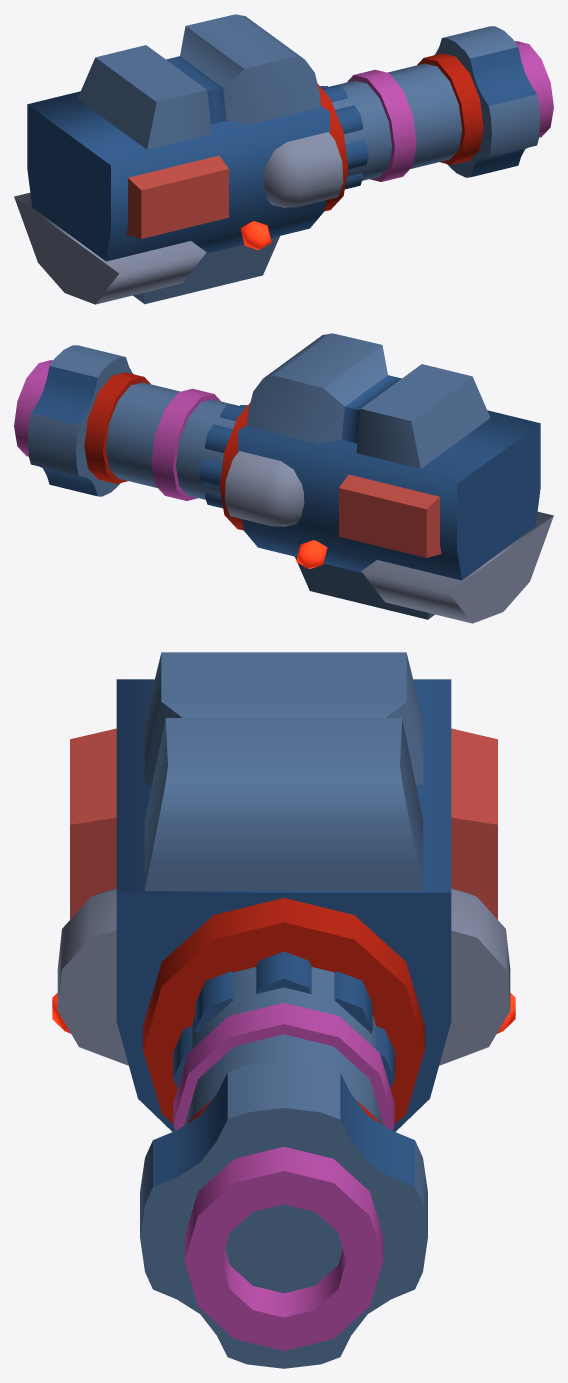
File: pulemet_Lv2.fbx
3 views of the same model, one above another, from view 1: azimuth 30°, elevation 25°; view 2: azimuth 150°, elevation 25°; view 3: azimuth 270°, elevation 25° (orthographic). The views are drawn at different scales.
Parts seen in each view (by area): view 1: Cube.008, Cube.012, wTube.013, Cube.009, wTube.019, Cube.011, Sphere.001, Cube.010, wTube.016, wTube.020, wTube.014, wTube.015 (+3 smaller); view 2: Cube.008, Cube.012, wTube.013, Cube.009, wTube.019, Cube.011, Sphere.001, wTube.016, wTube.020, Cube.010, wTube.014, wTube.015 (+3 smaller); view 3: Cube.012, wTube.013, Cube.008, wTube.014, wTube.015, Sphere.001, Cube.011, wTube.019, wTube.016, wTube.017, wTube.018.
Boxes of the visible parts, left/top/right/bottom form: Cube.008: left=27, top=91, right=329, bottom=261; Cube.012: left=77, top=14, right=320, bottom=149; wTube.013: left=434, top=26, right=540, bottom=177; Cube.009: left=14, top=192, right=206, bottom=304; wTube.019: left=322, top=63, right=462, bottom=180; Cube.011: left=126, top=155, right=228, bottom=238; Sphere.001: left=263, top=132, right=343, bottom=207; Cube.010: left=133, top=236, right=279, bottom=304; wTube.016: left=347, top=69, right=416, bottom=181; wTube.020: left=417, top=53, right=483, bottom=164; wTube.014: left=515, top=41, right=553, bottom=137; wTube.015: left=317, top=84, right=348, bottom=211; Cube.008: left=238, top=410, right=540, bottom=580; Cube.012: left=247, top=333, right=490, bottom=468; wTube.013: left=27, top=345, right=133, bottom=496; Cube.009: left=361, top=511, right=553, bottom=623; wTube.019: left=105, top=382, right=245, bottom=499; Cube.011: left=339, top=474, right=441, bottom=557; Sphere.001: left=224, top=451, right=304, bottom=526; wTube.016: left=151, top=388, right=220, bottom=500; wTube.020: left=84, top=372, right=150, bottom=483; Cube.010: left=295, top=556, right=434, bottom=619; wTube.014: left=14, top=360, right=52, bottom=456; wTube.015: left=219, top=403, right=250, bottom=530; Cube.012: left=144, top=652, right=423, bottom=890; wTube.013: left=140, top=1061, right=427, bottom=1368; Cube.008: left=116, top=679, right=451, bottom=1131; wTube.014: left=184, top=1147, right=383, bottom=1350; wTube.015: left=143, top=898, right=424, bottom=1123; Sphere.001: left=57, top=888, right=510, bottom=1065; Cube.011: left=70, top=728, right=497, bottom=919; wTube.019: left=184, top=967, right=383, bottom=1124; wTube.016: left=173, top=1003, right=394, bottom=1130; wTube.017: left=173, top=951, right=394, bottom=1088; wTube.018: left=195, top=971, right=372, bottom=1034.
Bounding box in the file's own units: 719 × 338 × 310.
